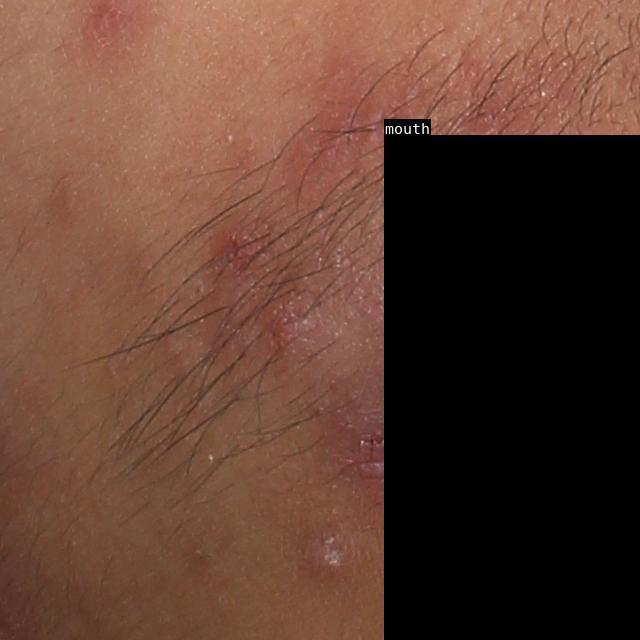papule: (198, 209, 275, 282), (251, 288, 327, 361), (300, 519, 354, 584)
